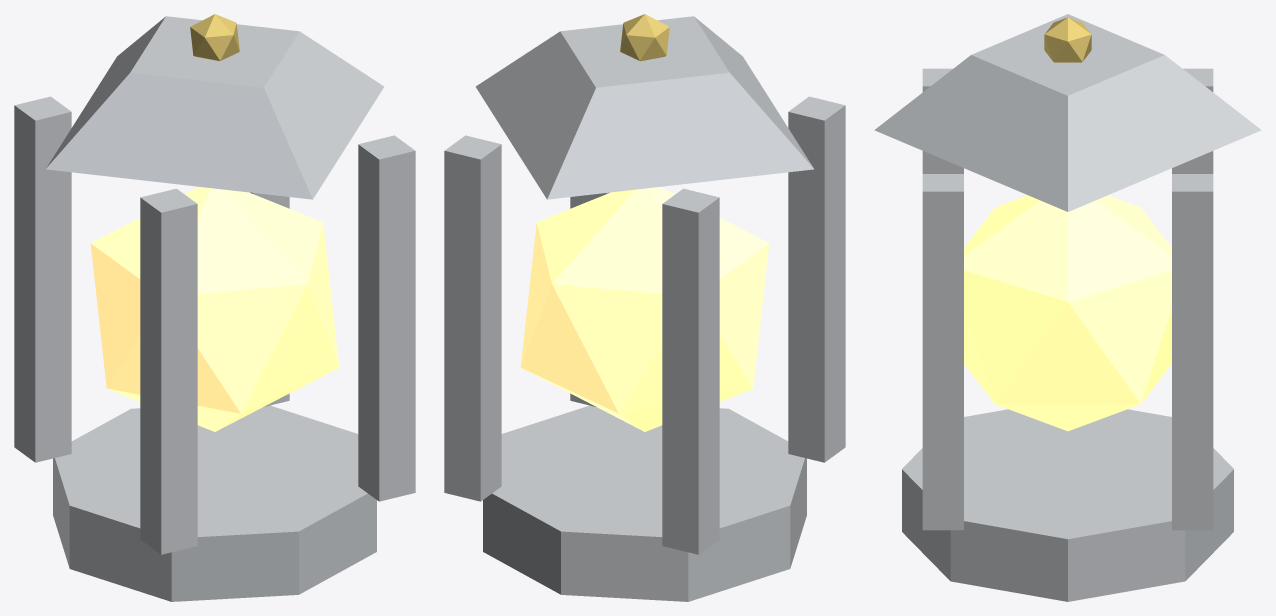
Rendered from interior_lantern.glb.
3 views of the same model, side by side, from view 1: azimuth 30°, elevation 25°; view 2: azimuth 150°, elevation 25°; view 3: azimuth 270°, elevation 25° (orthographic).
Parts seen in each view (by area): view 1: base.001, cap, core, post.002, post, post.001, finial; view 2: base.001, cap, core, post.003, post.001, post, finial; view 3: base.001, core, cap, post.002, post.003, finial, post, post.001.
Part boxes in pixels (left/top/right/bottom): base.001: left=53, top=405, right=376, bottom=601; cap: left=46, top=16, right=384, bottom=199; core: left=90, top=187, right=339, bottom=431; post.002: left=358, top=135, right=415, bottom=501; post: left=140, top=188, right=197, bottom=554; post.001: left=14, top=96, right=71, bottom=462; finial: left=190, top=14, right=239, bottom=61; base.001: left=483, top=405, right=806, bottom=601; cap: left=475, top=16, right=813, bottom=199; core: left=520, top=187, right=769, bottom=431; post.003: left=444, top=135, right=501, bottom=501; post.001: left=662, top=188, right=719, bottom=554; post: left=788, top=96, right=845, bottom=462; finial: left=620, top=14, right=669, bottom=61; base.001: left=902, top=409, right=1233, bottom=601; core: left=964, top=195, right=1171, bottom=431; cap: left=874, top=14, right=1261, bottom=211; post.002: left=922, top=174, right=963, bottom=530; post.003: left=1172, top=174, right=1213, bottom=530; finial: left=1044, top=17, right=1091, bottom=62; post: left=922, top=68, right=963, bottom=173; post.001: left=1172, top=68, right=1213, bottom=173.
Bounding box in the file's own units: 0.28 × 0.41 × 0.28.
